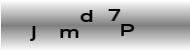7: (107, 7, 121, 22)
J: (28, 25, 37, 42)
P: (119, 22, 136, 37)
d: (80, 7, 93, 23)
m: (58, 27, 80, 39)
